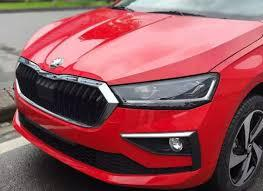skoda: (46, 53, 67, 70)
